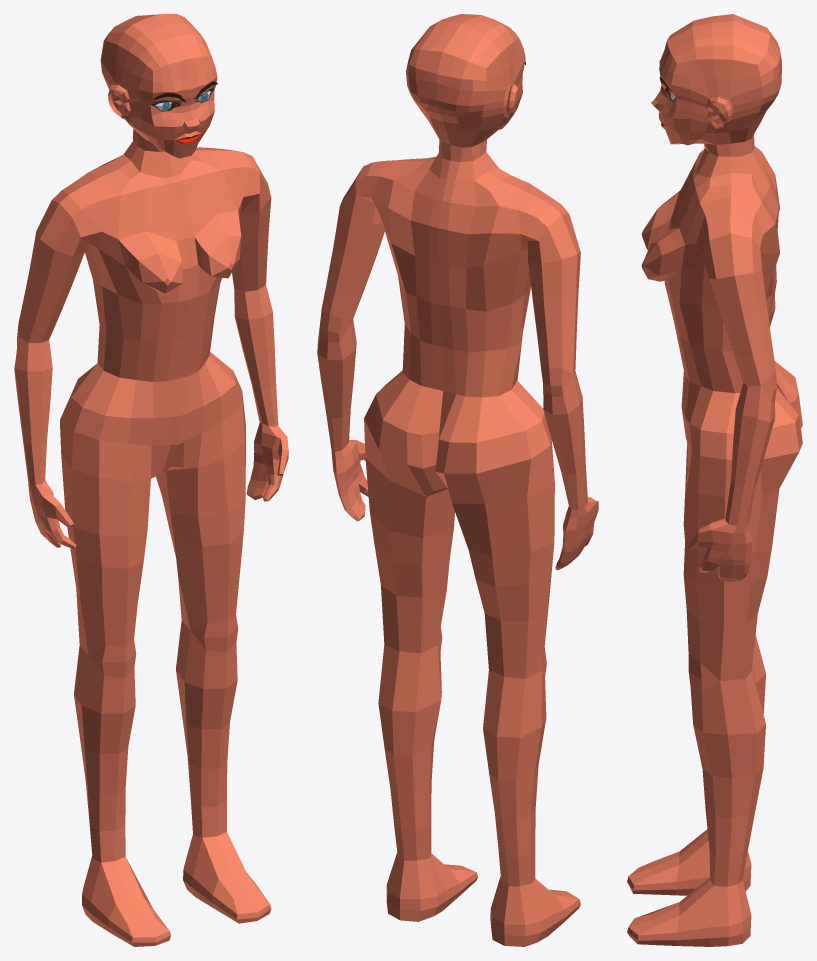
Rendered from Female_Stand.fbx.
The picture shows the model from 3 angles, left to right: view 1: azimuth 30°, elevation 25°; view 2: azimuth 150°, elevation 25°; view 3: azimuth 270°, elevation 25°; orthographic projection. The views are drawn at different scales.
Visible parts, largest first — view 1: Female_Stand; view 2: Female_Stand; view 3: Female_Stand.
Boxes of the visible parts, <box> form: Female_Stand: <box>14,14,288,946</box>; Female_Stand: <box>317,14,598,946</box>; Female_Stand: <box>627,14,802,946</box>.
Size of the model in its own units: 0.2788 by 0.9193 by 0.1647.
